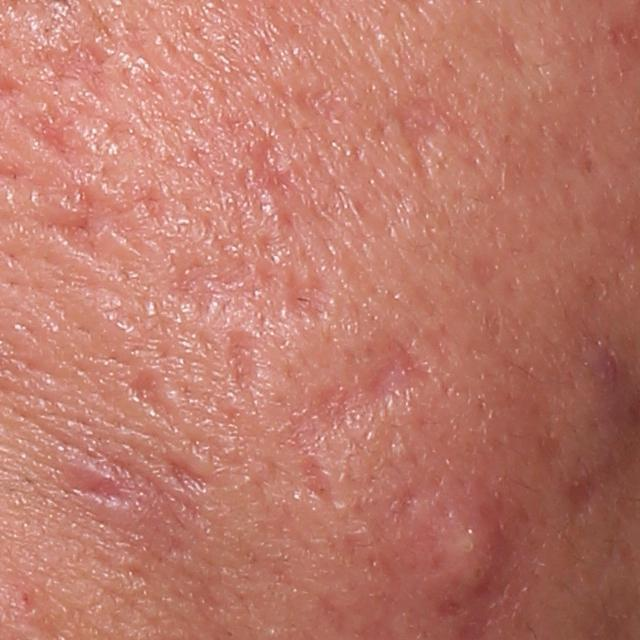atrophic_scar: (277, 327, 434, 524), (178, 153, 324, 325), (392, 93, 478, 192), (233, 131, 297, 225), (50, 200, 132, 264), (133, 446, 218, 504), (122, 368, 188, 437), (45, 36, 108, 101), (24, 120, 98, 172), (57, 471, 133, 511), (223, 332, 252, 402)
